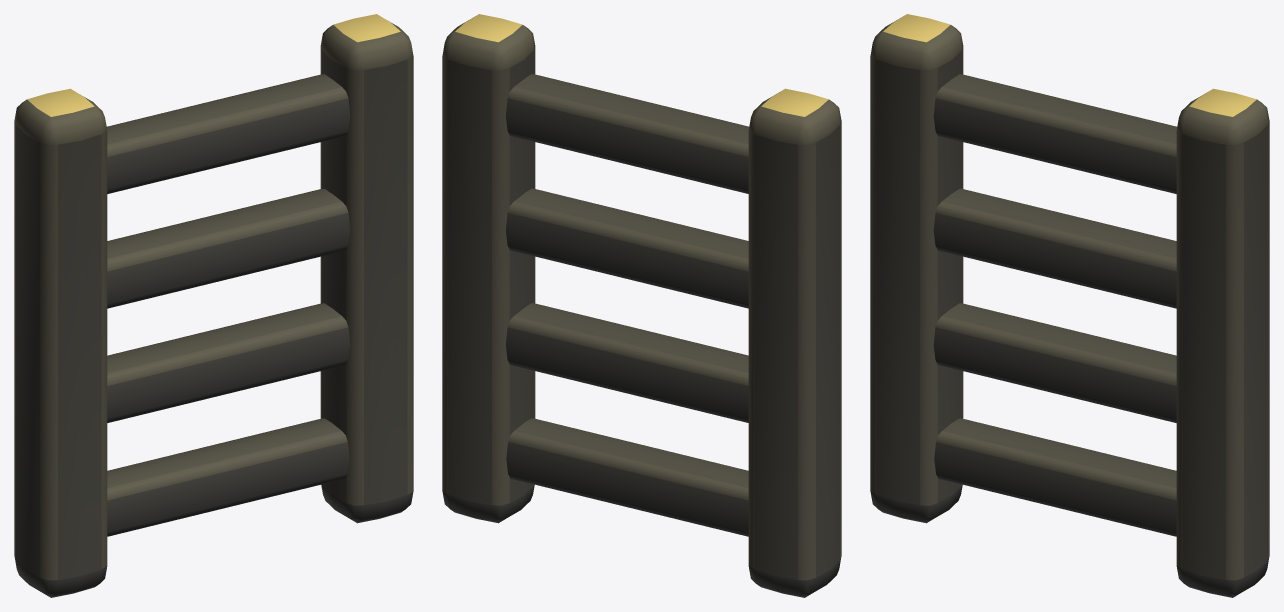
Rendered from ColdWood_Ladder.fbx.
3 views of the same model, side by side, from view 1: azimuth 30°, elevation 25°; view 2: azimuth 150°, elevation 25°; view 3: azimuth 330°, elevation 25° (orthographic).
Visible parts, largest first — view 1: ColdWood_Ladder_LOD0; view 2: ColdWood_Ladder_LOD0; view 3: ColdWood_Ladder_LOD0.
Part boxes in pixels (x1=…): ColdWood_Ladder_LOD0: x1=14, y1=14, x2=413, y2=597; ColdWood_Ladder_LOD0: x1=442, y1=14, x2=841, y2=597; ColdWood_Ladder_LOD0: x1=870, y1=14, x2=1269, y2=597.
Size of what is drawn, in the model's own units: 0.8613 by 1.05 by 0.1617.
